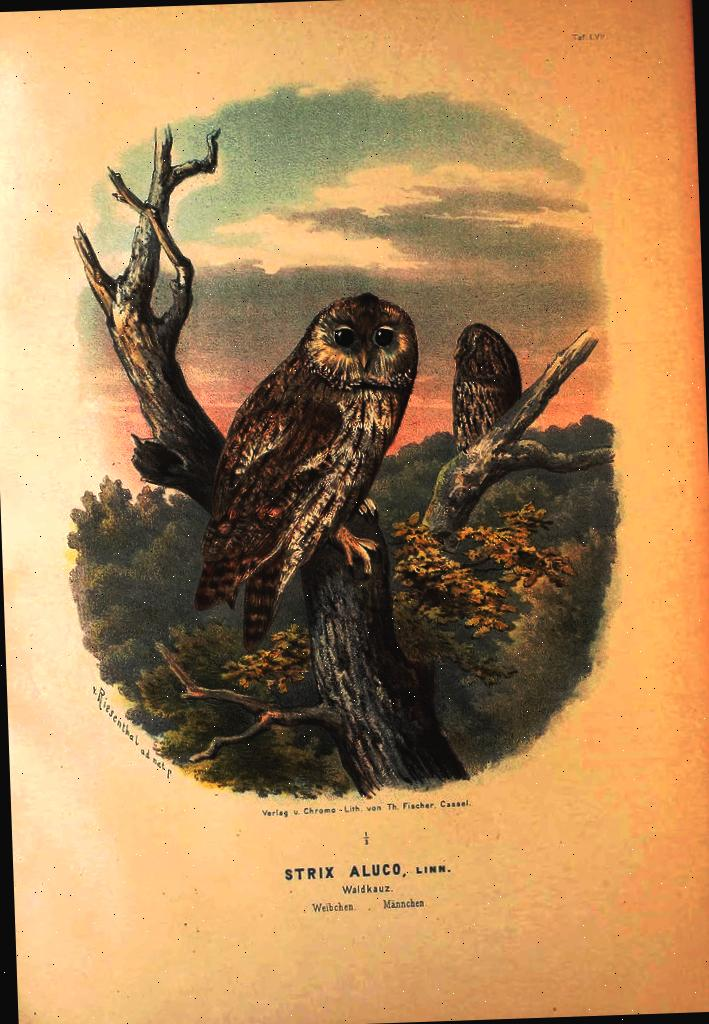Owl: (178, 297, 428, 656), (448, 318, 524, 461)
